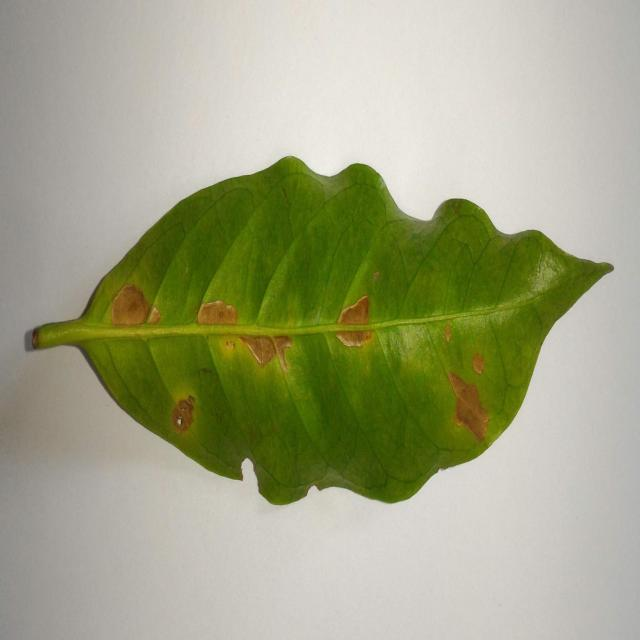Plaga-Minador: (23, 157, 614, 509)
